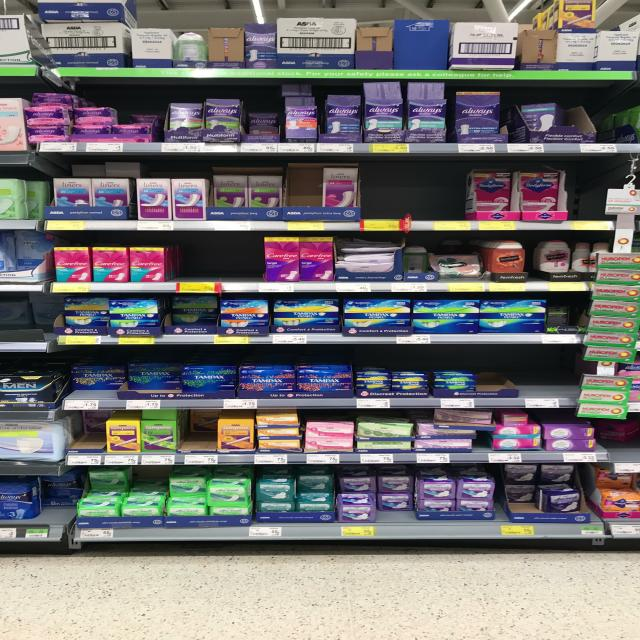empty: (476, 344, 584, 403), (354, 169, 473, 221), (174, 234, 266, 282), (568, 162, 607, 226), (286, 162, 320, 215)
